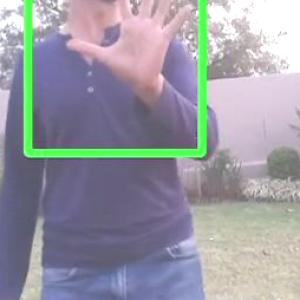follow_hand: (64, 0, 198, 92)
